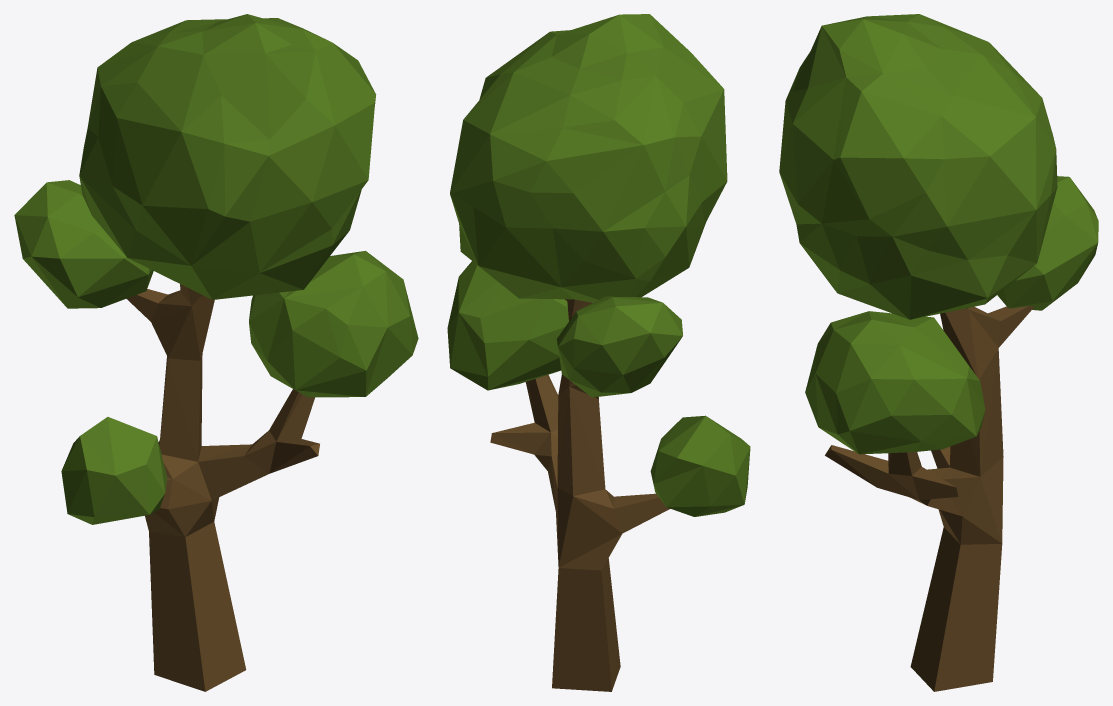
File: tree_fruit_c.glb
3 views of the same model, side by side, from view 1: azimuth 30°, elevation 25°; view 2: azimuth 150°, elevation 25°; view 3: azimuth 270°, elevation 25° (orthographic). The views are drawn at different scales.
Visible parts, largest first — view 1: Tree1_Tree1_2.001_0; view 2: Tree1_Tree1_2.001_0; view 3: Tree1_Tree1_2.001_0.
Boxes of the visible parts, left/top/right/bottom form: Tree1_Tree1_2.001_0: left=14, top=14, right=418, bottom=691; Tree1_Tree1_2.001_0: left=447, top=14, right=750, bottom=691; Tree1_Tree1_2.001_0: left=779, top=14, right=1098, bottom=691.
Bounding box in the file's own units: 10.11 × 20.59 × 9.03.
1 material, 1 textured.
